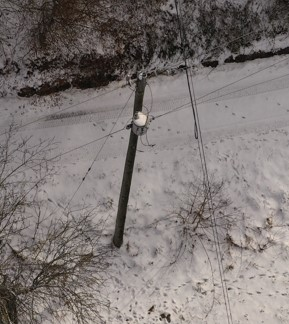pole: (114, 69, 161, 258)
